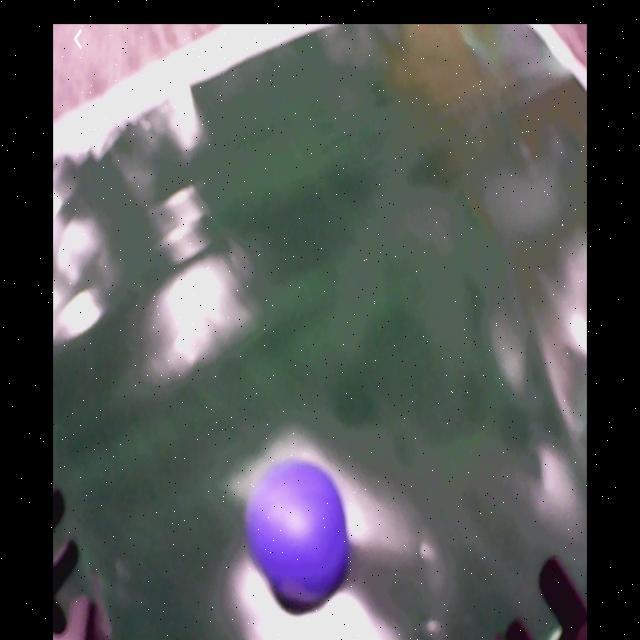ball: (252, 461, 346, 606)
